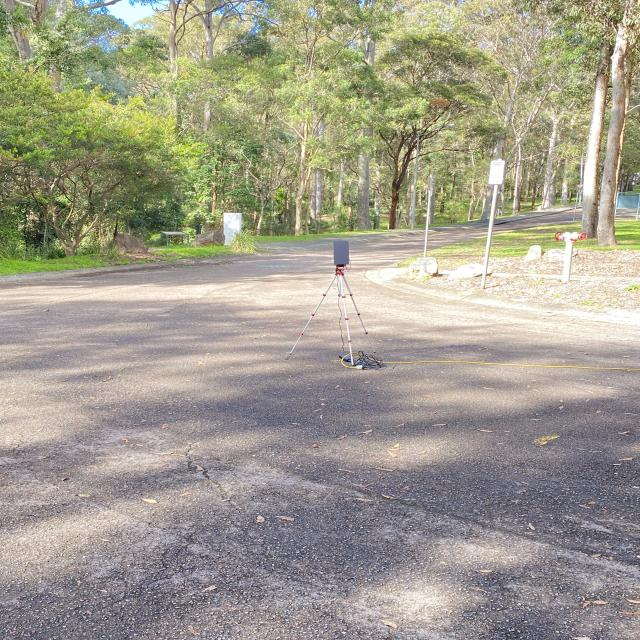matrix: (332, 240, 350, 266)
